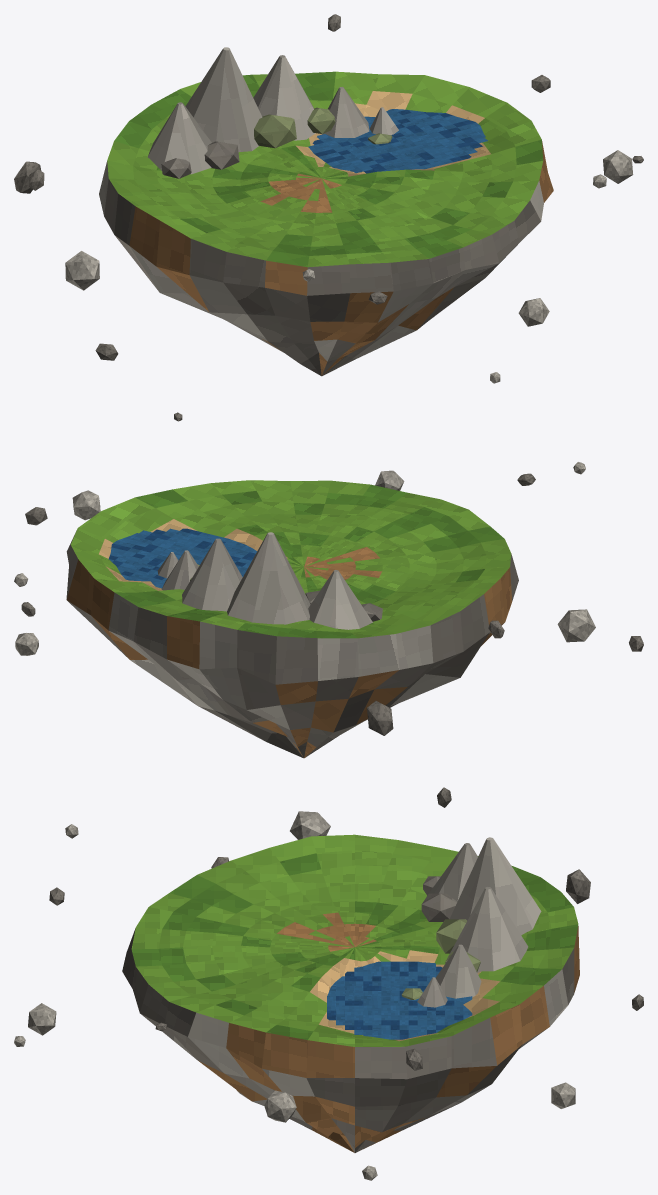
The model's file is island_terrain.glb.
3 renders of one model, top to bottom at view 1: azimuth 30°, elevation 25°; view 2: azimuth 150°, elevation 25°; view 3: azimuth 270°, elevation 25°, orthographic. The views are drawn at different scales.
Parts seen in each view (by area): view 1: Island_Terrain, MountainRange, Lake.001, VIRock.02, VIRock.00, VIRock.04; view 2: Island_Terrain, MountainRange, Lake.001, VIRock.02, VIRock.07, VIRock.00; view 3: Island_Terrain, MountainRange, Lake.001, VIRock.02, VIRock.00, VIRock.04, VIRock.07.
Boxes of the visible parts, x1,y1,x2,y2 form: Island_Terrain: (99, 71, 553, 376); MountainRange: (148, 47, 398, 178); Lake.001: (308, 109, 487, 173); VIRock.02: (65, 251, 99, 290); VIRock.00: (603, 150, 633, 183); VIRock.04: (518, 298, 549, 326); Island_Terrain: (66, 480, 518, 758); MountainRange: (157, 532, 382, 629); Lake.001: (108, 528, 256, 588); VIRock.02: (557, 609, 595, 642); VIRock.07: (367, 701, 393, 735); VIRock.00: (72, 490, 100, 520); Island_Terrain: (122, 834, 579, 1152); MountainRange: (401, 837, 541, 1007); Lake.001: (327, 961, 472, 1039); VIRock.02: (290, 811, 330, 839); VIRock.00: (264, 1090, 296, 1122); VIRock.04: (28, 1003, 56, 1035); VIRock.07: (566, 869, 590, 903).
Size of the model in its own units: 93.56 by 44.32 by 84.59.
Materials: 1 (1 with a texture image).
